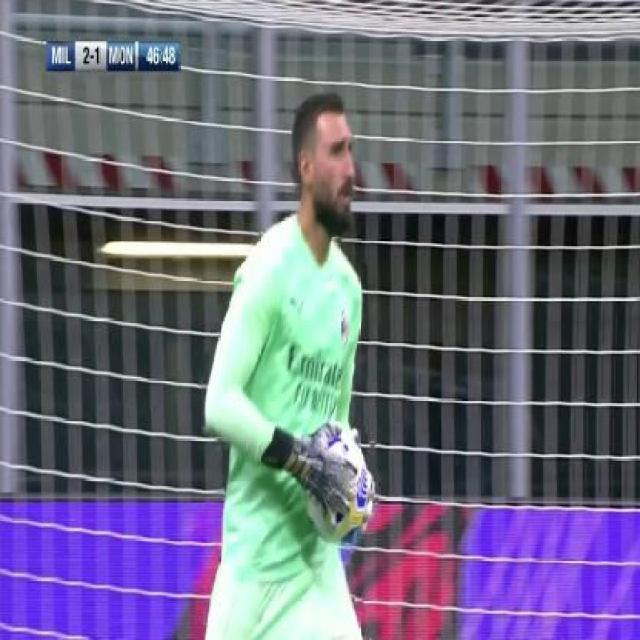ball: (304, 415, 378, 543)
player: (199, 92, 393, 640)
